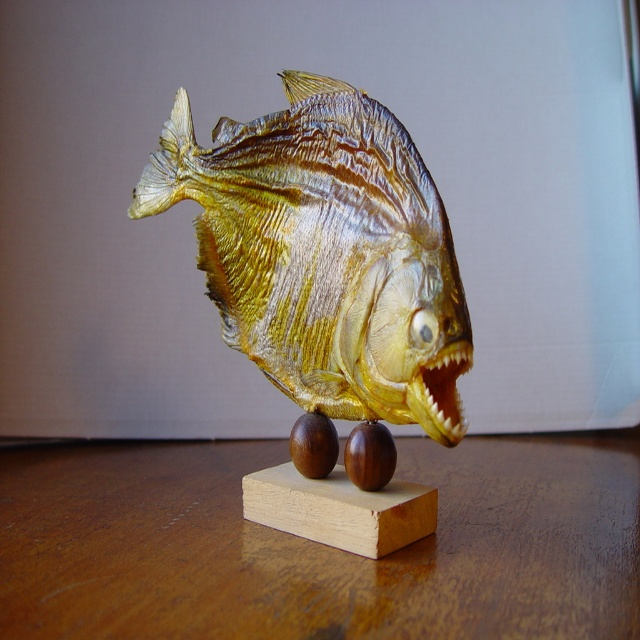Fish: (126, 71, 474, 452)
